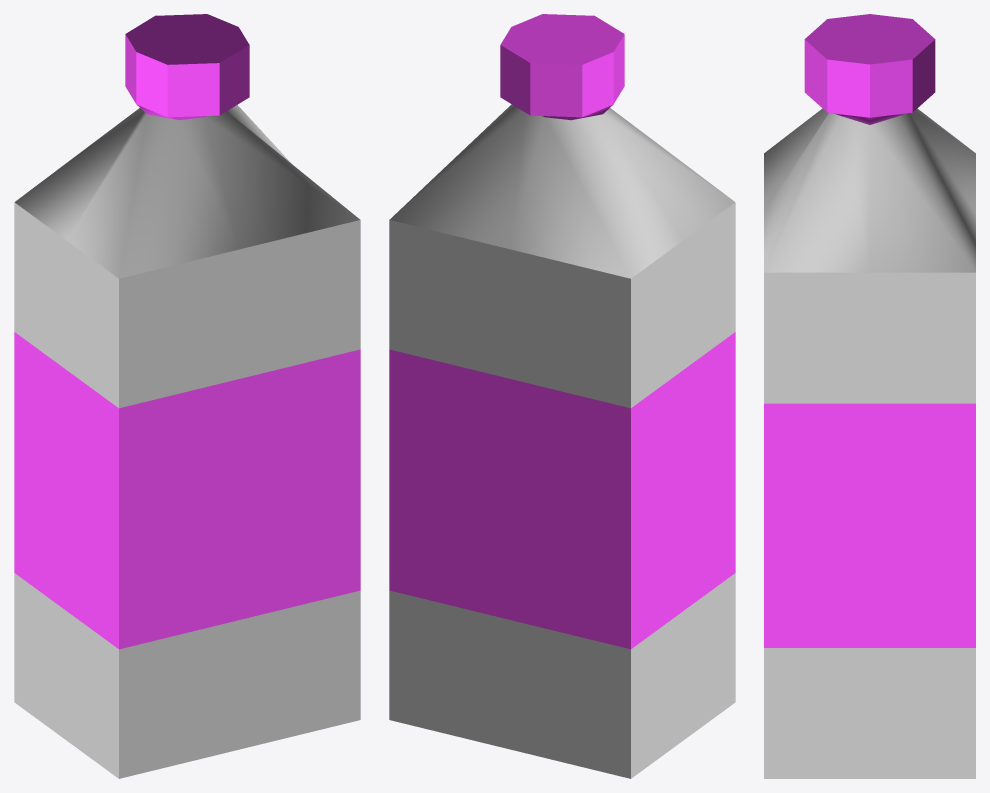
Rendered from Sugar-free Yogurt.fbx.
3 renders of one model, left to right at view 1: azimuth 30°, elevation 25°; view 2: azimuth 150°, elevation 25°; view 3: azimuth 270°, elevation 25°, orthographic.
Visible parts, largest first — view 1: Node 0; view 2: Node 0; view 3: Node 0.
Part boxes in pixels (box(x1,y1,x2,y2)): Node 0: box(14, 14, 360, 778); Node 0: box(389, 14, 735, 778); Node 0: box(764, 14, 975, 778).
Bounding box in the file's own units: 0.0728 × 0.258 × 0.0971.
